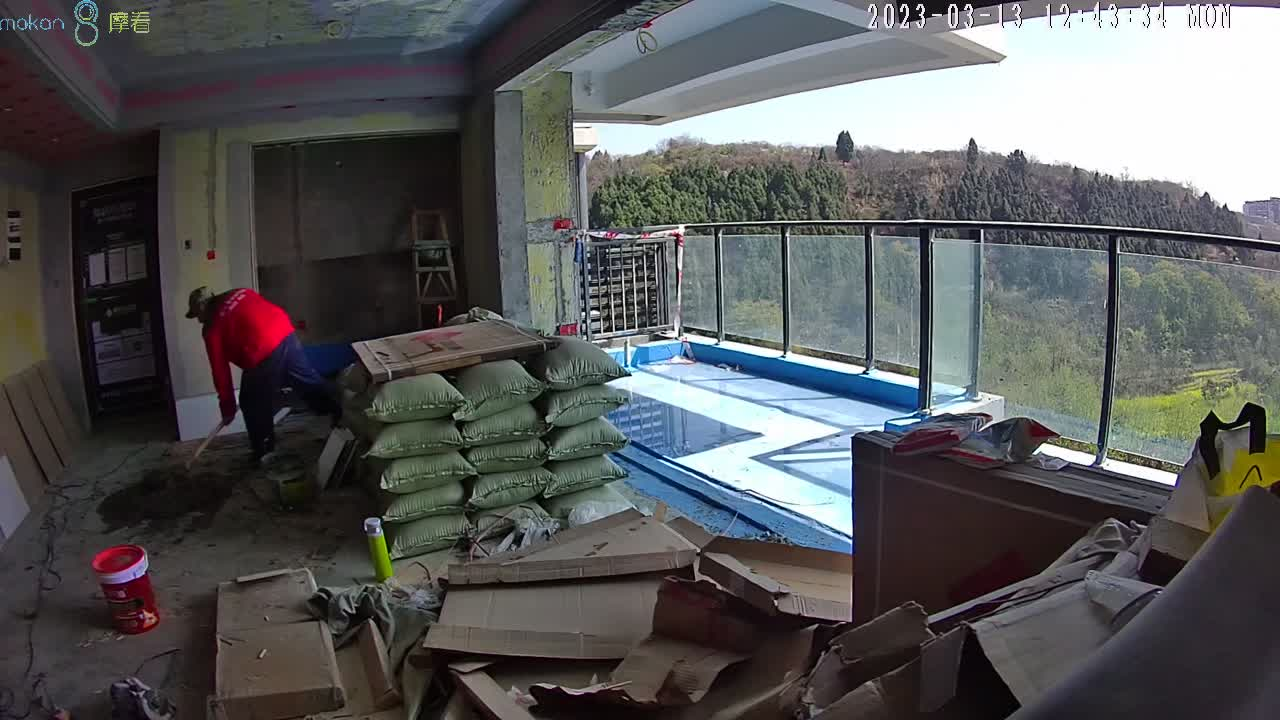people: (184, 283, 340, 466)
window: (585, 216, 1280, 488)
